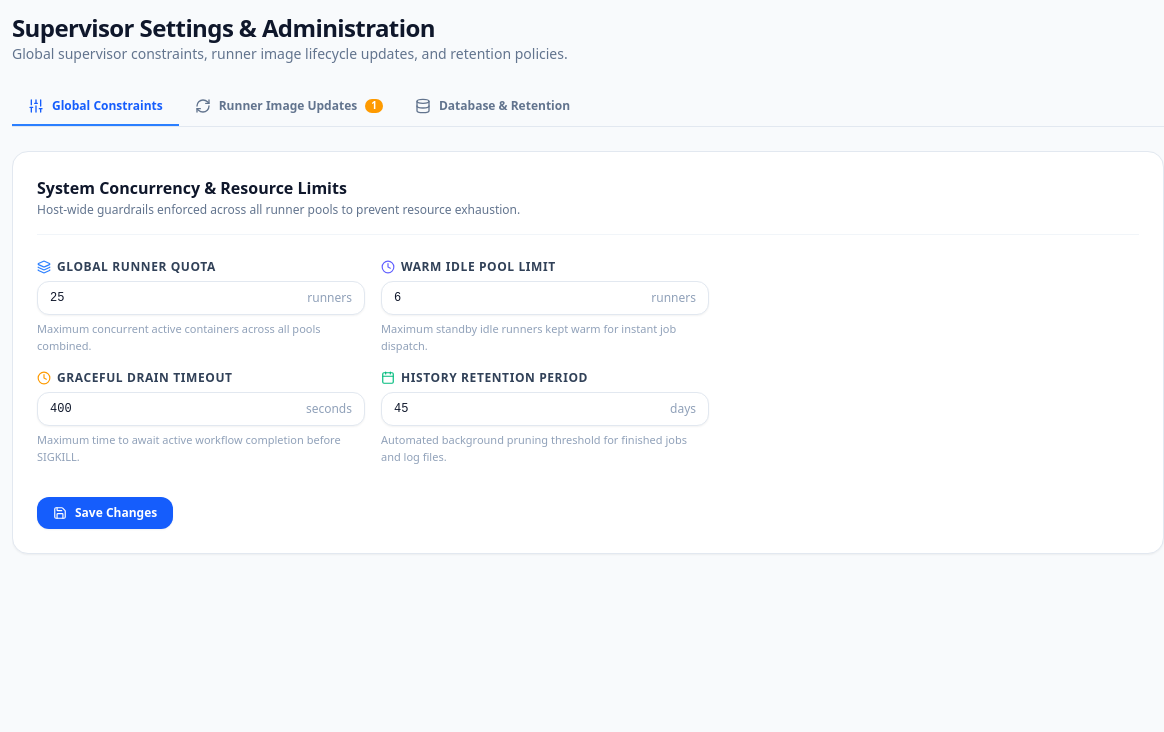
Scenario: SettingsPage › switches to runner image updates tab and lists pending notifications and pools
Click the button "Runner Image Updates 1". click: (289, 107)
box: [179,88,399,126]
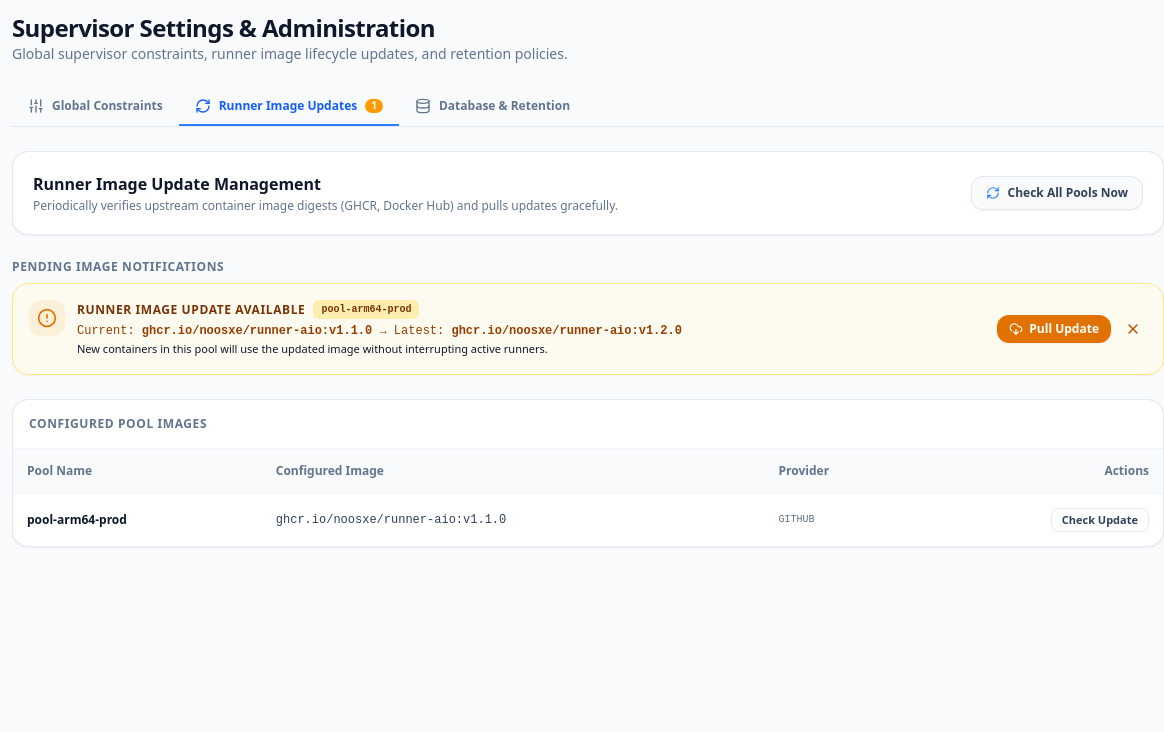
Check: the heading "Runner Image Update Management" is shown, box [33,173,321,195]
Check: the heading "Pending Image Notifications" is shown, box [12,258,224,275]
Check: the text "pool-arm64-prod" is shown, box [313,300,419,319]
